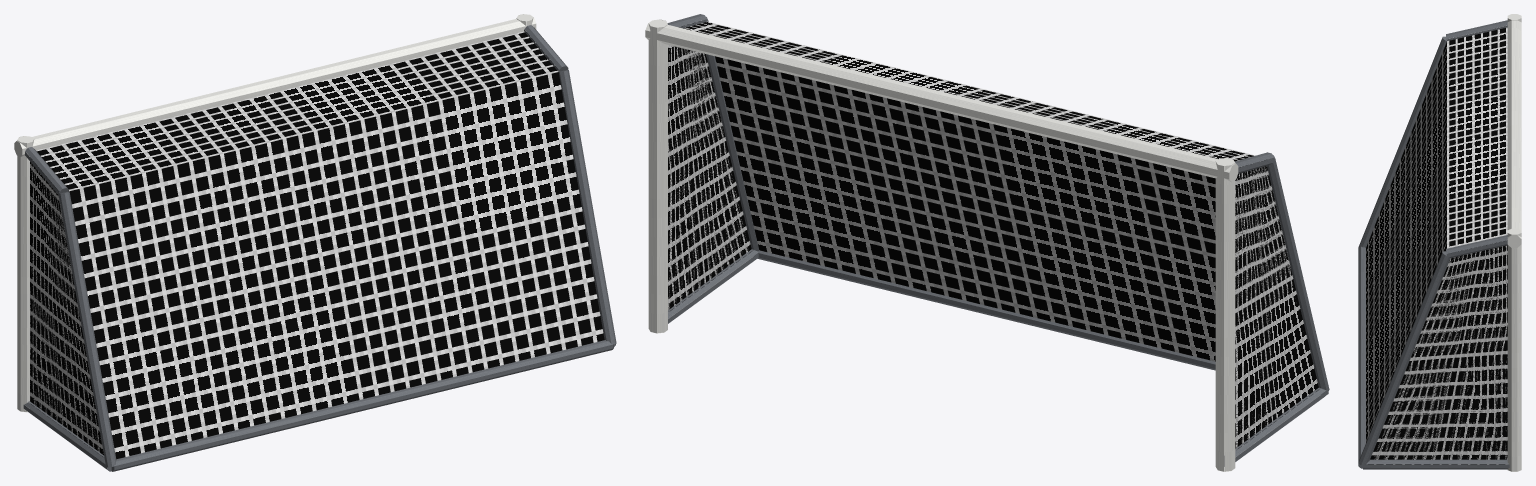
File: soccer_goal_small.obj
The picture shows the model from 3 angles, left to right: view 1: azimuth 30°, elevation 25°; view 2: azimuth 150°, elevation 25°; view 3: azimuth 270°, elevation 25°; orthographic projection. The views are drawn at different scales.
Parts seen in each view (by area): view 1: soccer_goal_small; view 2: soccer_goal_small; view 3: soccer_goal_small.
Boxes of the visible parts, left/top/right/bottom form: soccer_goal_small: left=14, top=14, right=616, bottom=471; soccer_goal_small: left=645, top=14, right=1329, bottom=471; soccer_goal_small: left=1358, top=14, right=1521, bottom=471.
Bounding box in the file's own units: 3.88 × 1.94 × 1.21.
